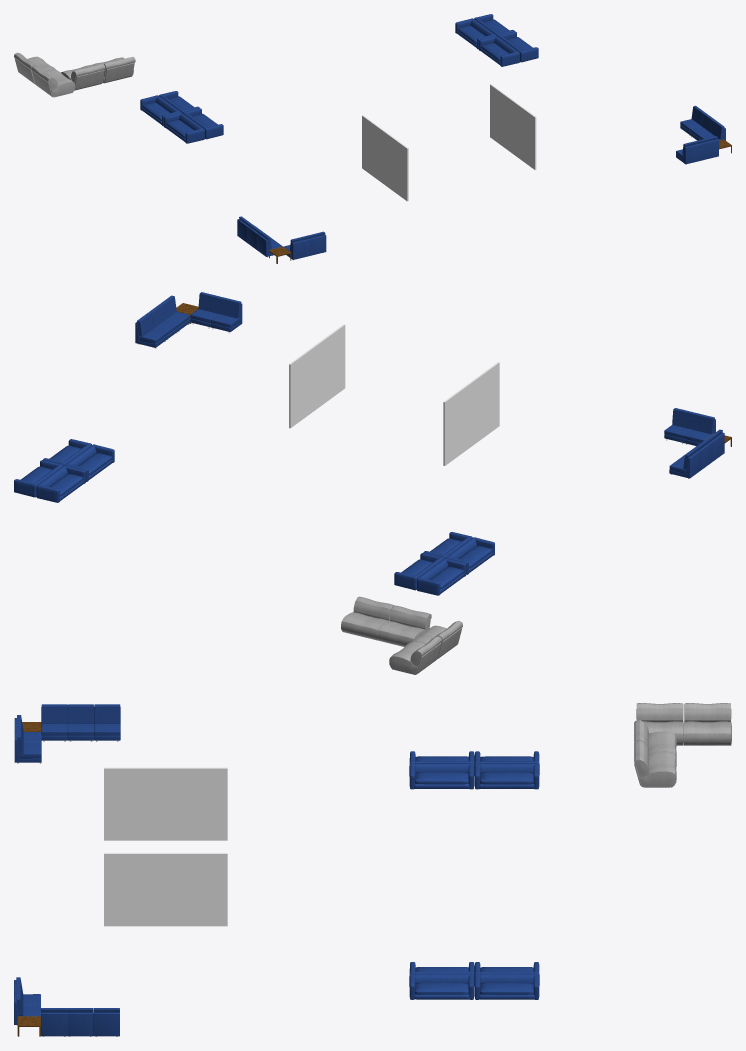
The model's file is MueblesSala.fbx.
The picture shows the model from 3 angles, top to bottom: view 1: azimuth 30°, elevation 25°; view 2: azimuth 150°, elevation 25°; view 3: azimuth 270°, elevation 25°; orthographic projection. The views are drawn at different scales.
Visible parts, largest first — view 1: SillonL, MuroFalso1, MuroFalso1.001, Sofa1, Sofa2, Sillon.008, Sillon.003; view 2: SillonL, MuroFalso1.001, MuroFalso1, Sofa1, Sofa2, Sillon.008, Sillon.003; view 3: MuroFalso1, MuroFalso1.001, SillonL, Sofa1, Sofa2, Sillon.003, Sillon.008.
Boxes of the visible parts, x1,y1,x2,y2 form: SillonL: (14,52,135,97); MuroFalso1: (362,115,408,201); MuroFalso1.001: (490,84,536,169); Sofa1: (140,91,223,143); Sofa2: (455,14,538,66); Sillon.008: (676,105,725,164); Sillon.003: (237,216,326,260); SillonL: (341,596,462,674); MuroFalso1.001: (289,324,345,428); MuroFalso1: (443,362,499,465); Sofa1: (394,532,494,595); Sofa2: (14,439,114,502); Sillon.008: (135,292,242,348); Sillon.003: (664,408,724,478); MuroFalso1: (104,767,227,840); MuroFalso1.001: (104,853,227,926); SillonL: (634,703,731,787); Sofa1: (409,751,539,789); Sofa2: (409,962,539,999); Sillon.003: (14,704,120,763); Sillon.008: (14,977,119,1036).
Bounding box in the file's own units: 2499 × 276 × 2465.
Materials: 27 (27 with a texture image).
